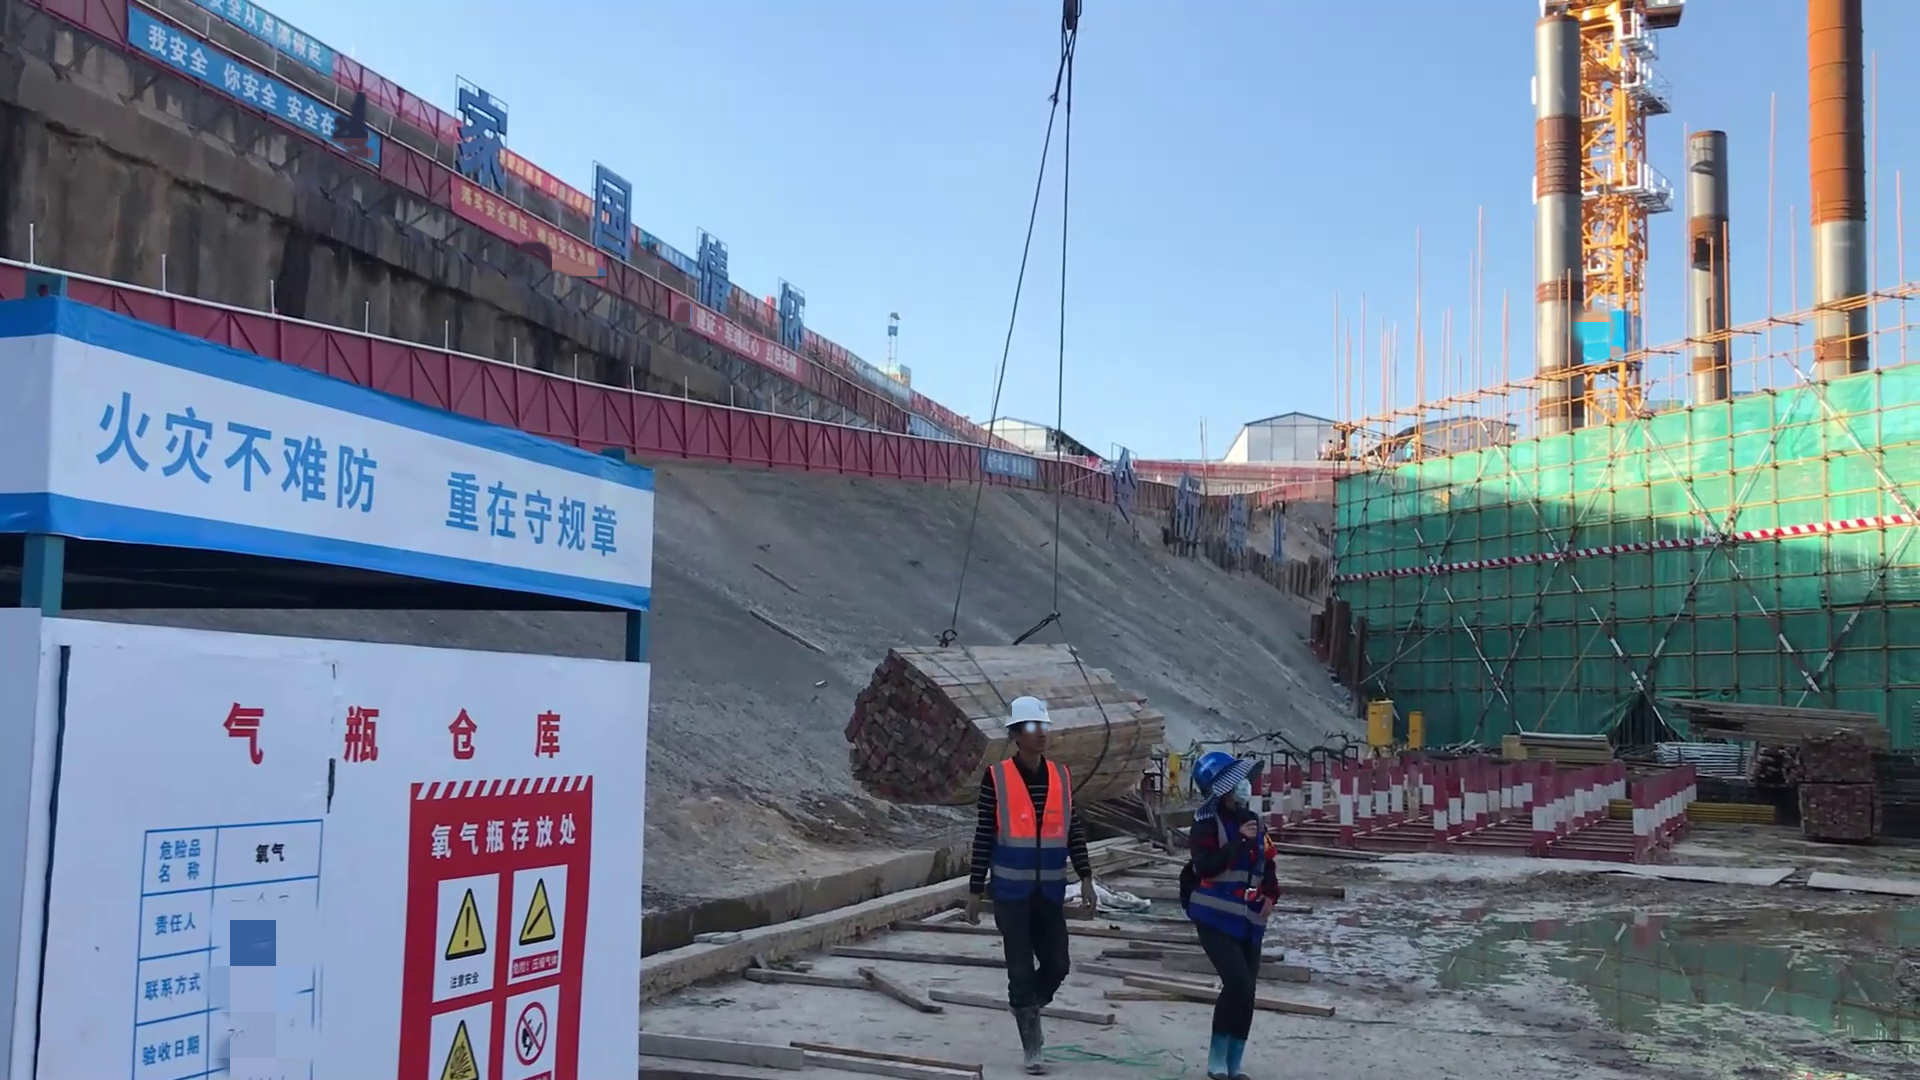ebox: (1364, 699, 1400, 751), (1406, 712, 1423, 750)
fence: (645, 387, 822, 471), (826, 423, 1001, 479)
helmet: (1184, 750, 1226, 784), (1008, 699, 1045, 729)
person: (963, 692, 1088, 1068), (1165, 745, 1297, 1077)
slogan: (93, 379, 625, 571), (404, 852, 580, 1080), (121, 20, 356, 165), (410, 142, 607, 313)
vest: (980, 761, 1081, 900), (1185, 813, 1273, 939)
wood: (817, 627, 1166, 813), (1664, 693, 1884, 763)
